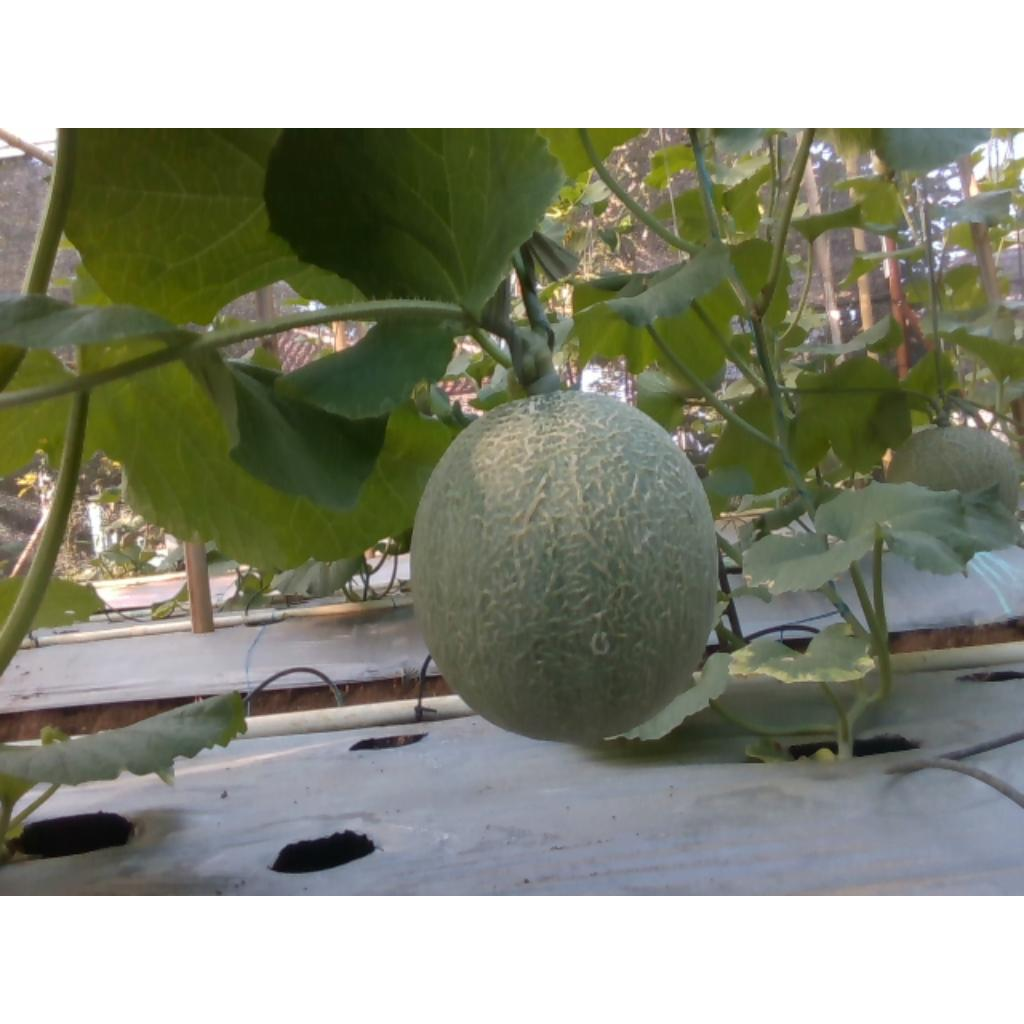melon: (411, 392, 718, 742)
